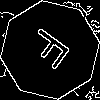F: (25, 25, 80, 77)
